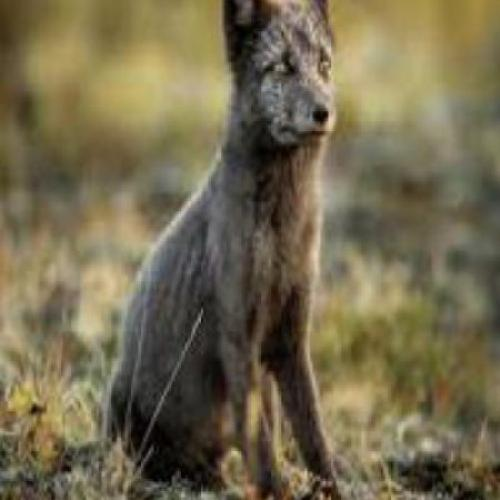arctic_fox-endangered: (110, 0, 341, 498)
